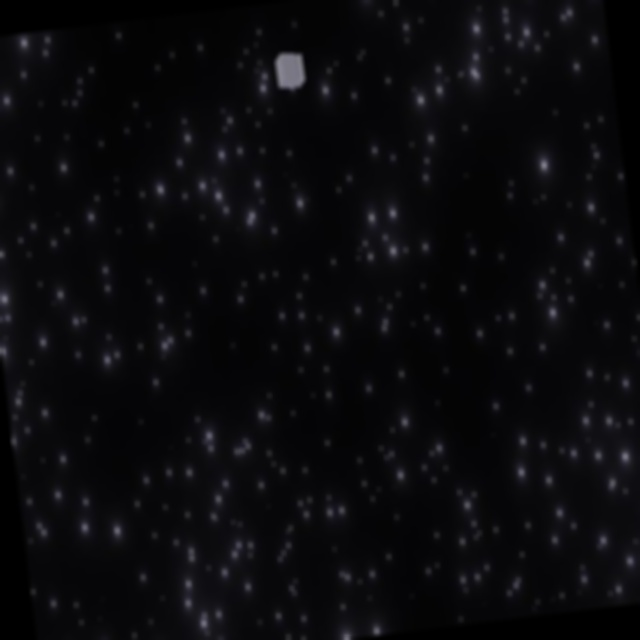large_debris: (272, 41, 311, 94)
